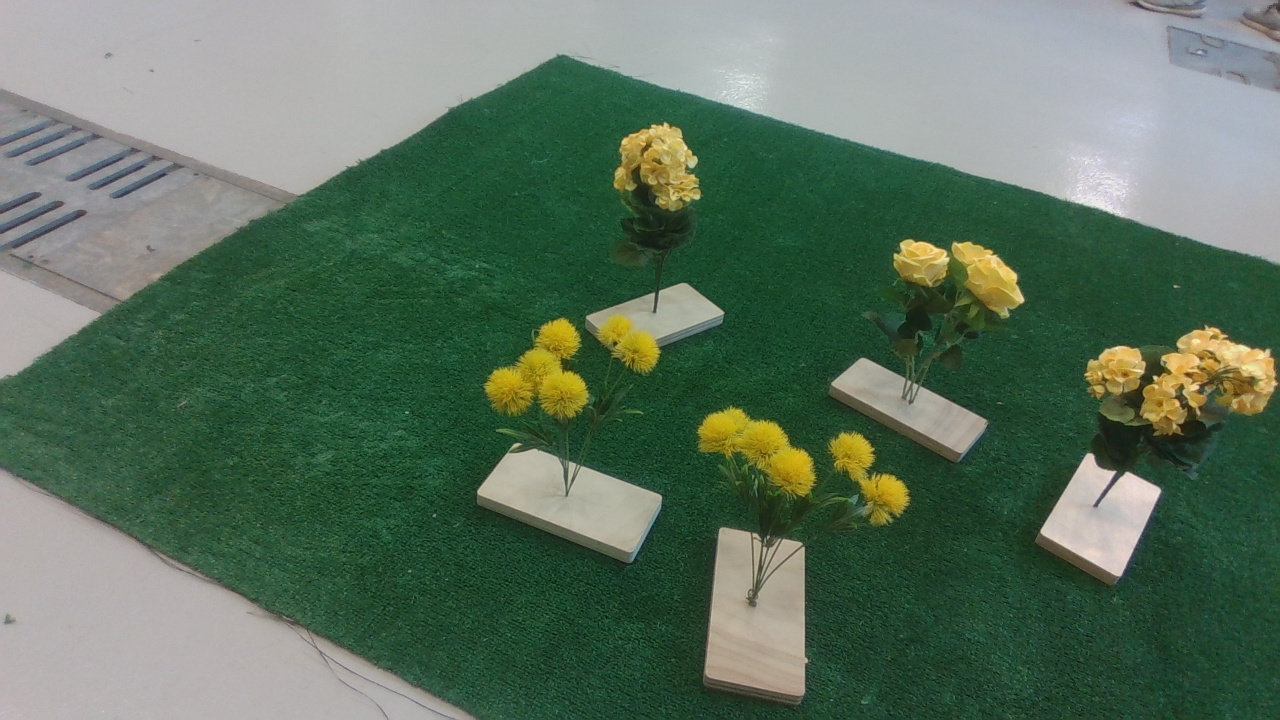dandelion: (679, 409, 879, 552), (461, 317, 662, 437)
geranium: (1078, 307, 1280, 461), (602, 124, 726, 282)
rose: (870, 222, 1042, 364)
